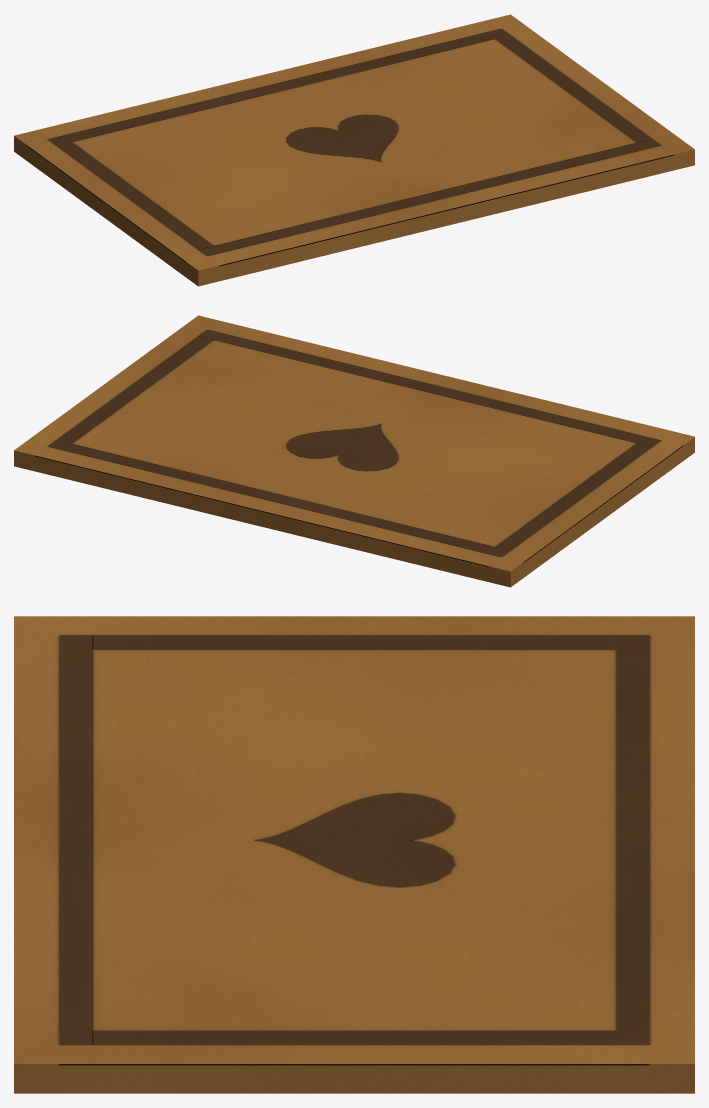
The model's file is Doormat_01.fbx.
3 renders of one model, top to bottom at view 1: azimuth 30°, elevation 25°; view 2: azimuth 150°, elevation 25°; view 3: azimuth 270°, elevation 25°, orthographic. The views are drawn at different scales.
Visible parts, largest first — view 1: Doormat_01; view 2: Doormat_01; view 3: Doormat_01.
Part boxes in pixels (box(x1,y1,x2,y2)): Doormat_01: box(14, 14, 694, 286); Doormat_01: box(14, 315, 694, 587); Doormat_01: box(14, 616, 694, 1093).
Size of the model in its own units: 0.7 by 0.0215 by 0.45.
1 material, 1 textured.
